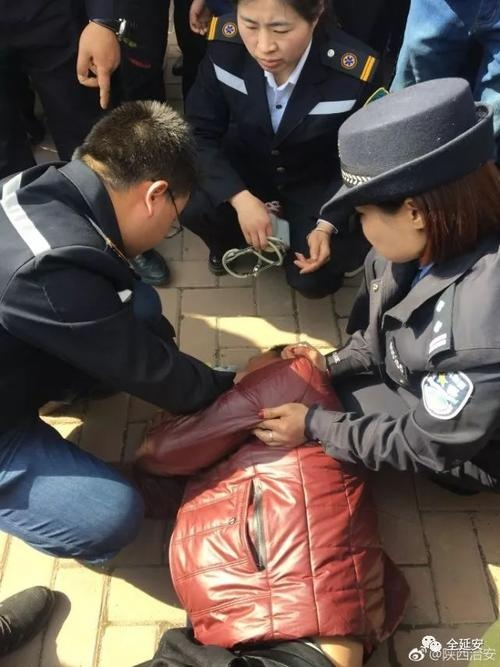falling: (100, 282, 403, 667)
